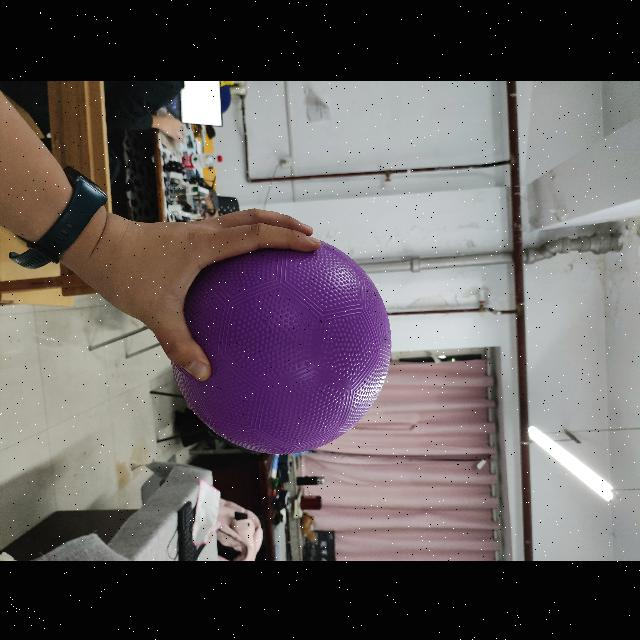P: (168, 232, 396, 456)
